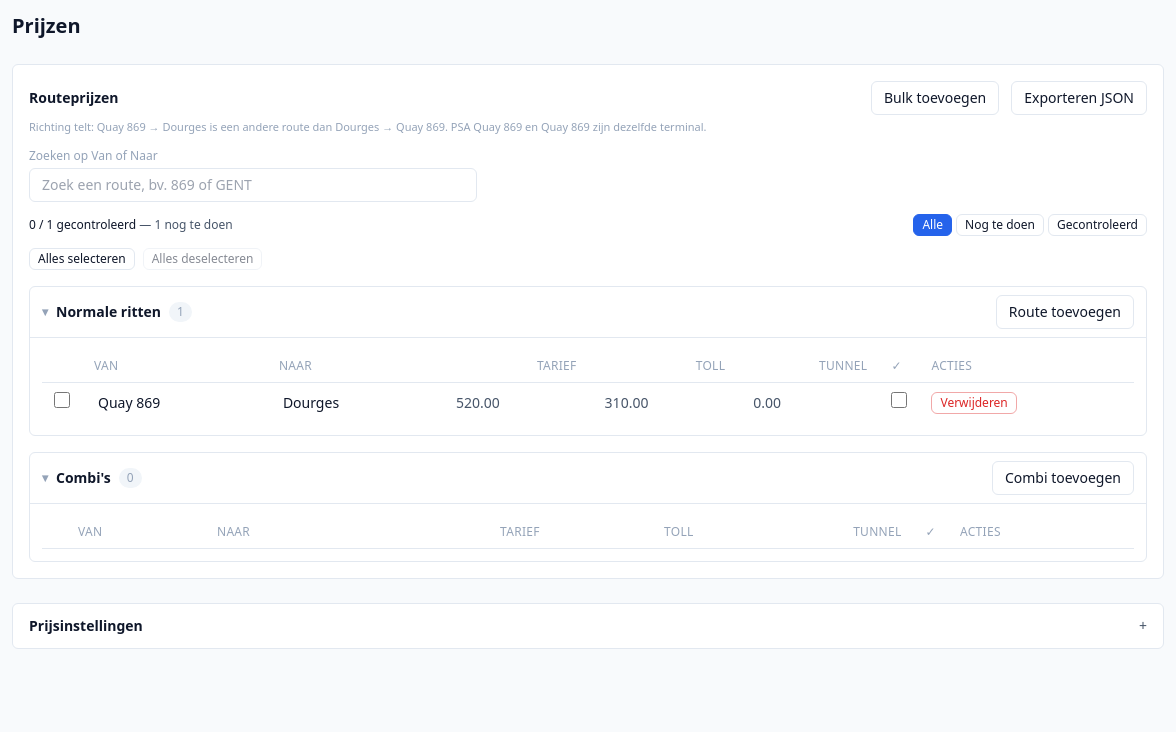
Scenario: the counter › moves when a route is marked
Check: the text "0 / 1 gecontroleerd" is shown, box [29,216,136,232]
What coordinates should you click on to do the following:
click the checkbox named "Gecontroleerd: Quay 869 Dourges"
I would click on:
 (899, 400)
Its box is [891,392,907,408].
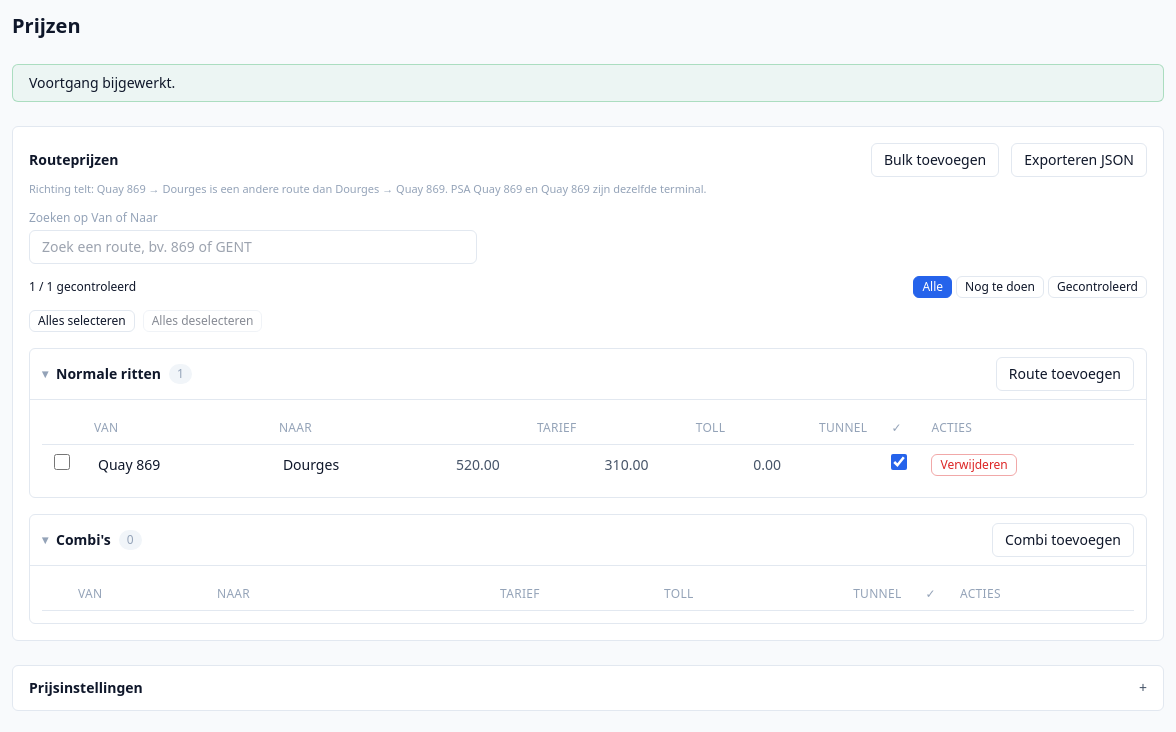
Check: the text "1 / 1 gecontroleerd" is shown, box [29,278,136,294]
